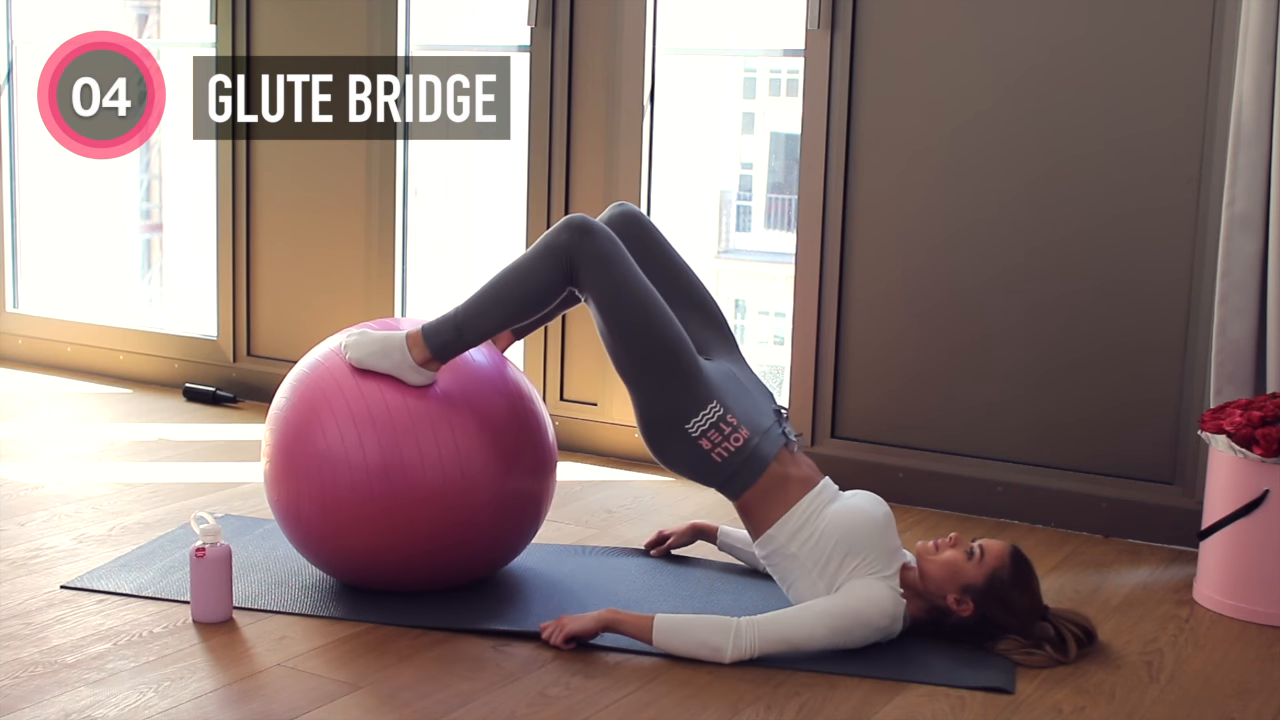yogaball: (259, 313, 570, 610)
